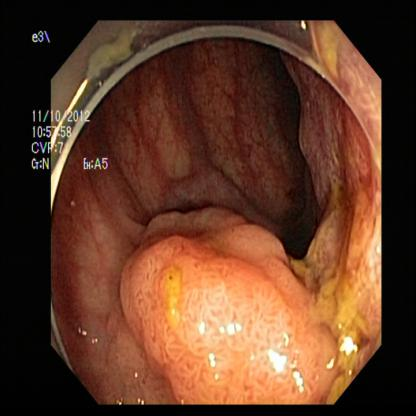Labels: (26, 95, 120, 190), (27, 26, 64, 72)
Polyps: (122, 213, 332, 396)
